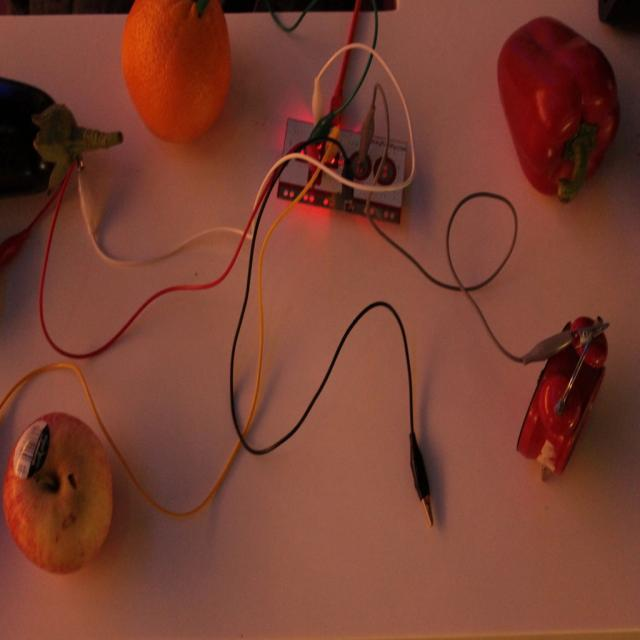Bell pepper: (498, 14, 619, 200)
